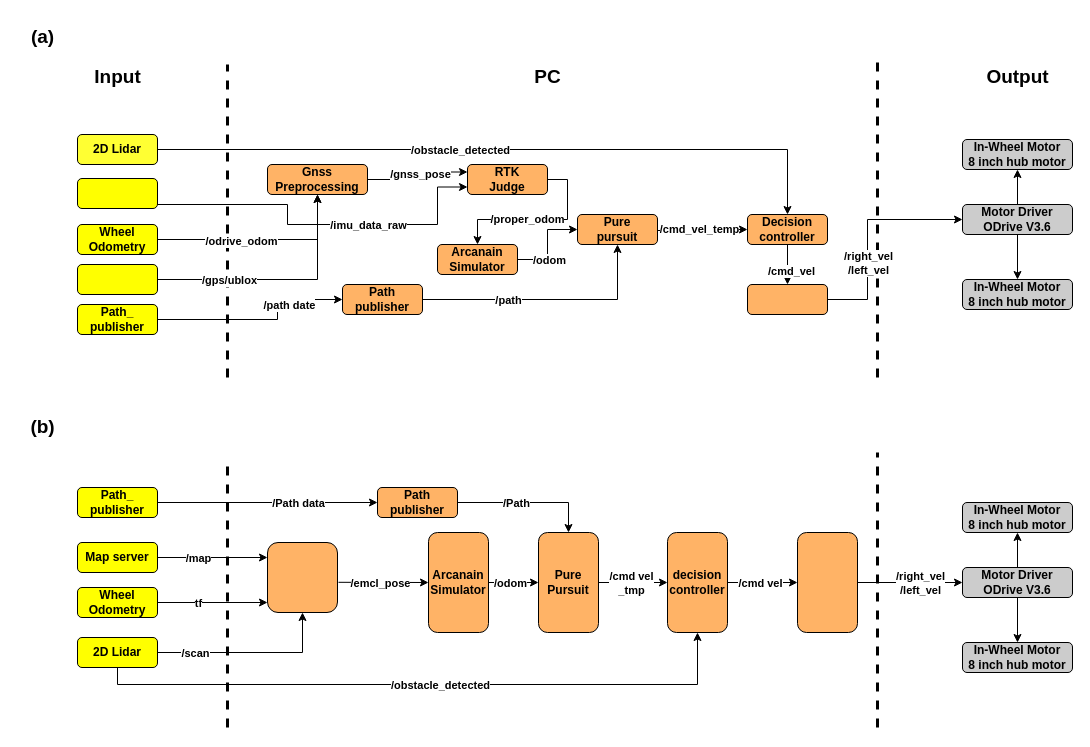
Image size: 1090x747. Some labels were removed from this diagram. The centre of each missing label's shape, as x and y in pixels:
EMCL: (x=302, y=577)
GPS modele sinpleRTK2B: (x=117, y=279)
IMU: (x=117, y=193)
odrive_ ros2_ control: (x=827, y=582)
odrive_ ros2_control: (x=787, y=299)
